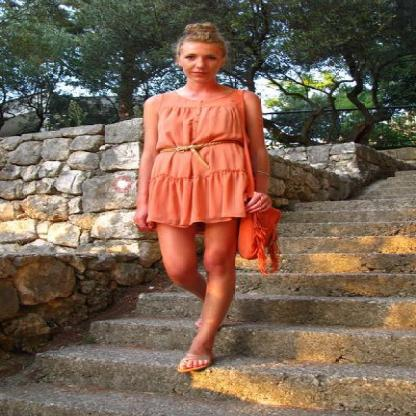bag: (239, 205, 281, 277)
dress: (134, 91, 261, 224)
shoe: (177, 350, 202, 371)
